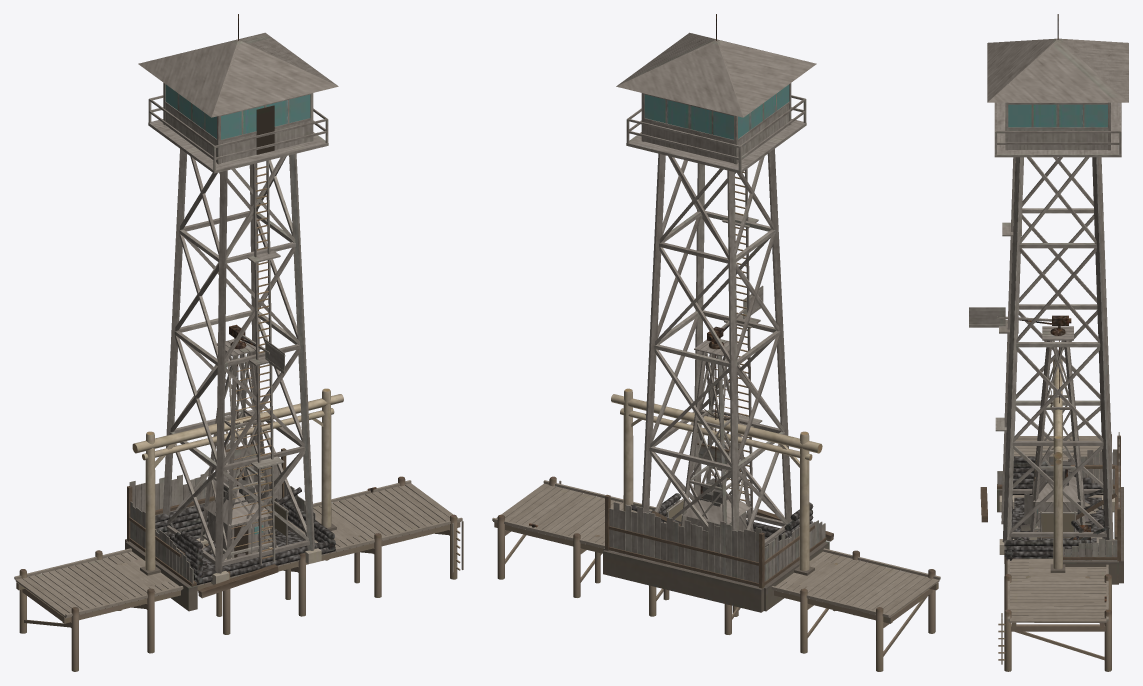
File: landmark.glb
3 views of the same model, side by side, from view 1: azimuth 30°, elevation 25°; view 2: azimuth 150°, elevation 25°; view 3: azimuth 270°, elevation 25° (orthographic). The views are drawn at different scales.
Parts seen in each view (by area): view 1: lookout_tower, dock_pier, cabin_ruin, ranch_gate, windmill_tower, burnt_ruin, fishing_shack, dock_walk; view 2: lookout_tower, dock_pier, cabin_ruin, ranch_gate, windmill_tower, fishing_shack, burnt_ruin, dock_walk; view 3: lookout_tower, dock_pier, windmill_tower, cabin_ruin, burnt_ruin, ranch_gate, fishing_shack, dock_walk, chimney_ruin.
Part boxes in pixels (x1,y1,x2,y2): lookout_tower: [138, 14, 338, 584]; dock_pier: [14, 476, 463, 671]; cabin_ruin: [125, 448, 315, 611]; ranch_gate: [132, 388, 343, 575]; windmill_tower: [196, 324, 285, 559]; burnt_ruin: [155, 487, 335, 584]; fishing_shack: [203, 476, 288, 558]; dock_walk: [114, 512, 359, 616]; lookout_tower: [616, 14, 816, 545]; dock_pier: [492, 476, 940, 671]; cabin_ruin: [603, 494, 833, 612]; ranch_gate: [611, 388, 822, 575]; windmill_tower: [681, 285, 763, 531]; fishing_shack: [666, 482, 751, 531]; burnt_ruin: [631, 493, 813, 546]; dock_walk: [595, 522, 837, 616]; lookout_tower: [987, 14, 1128, 554]; dock_pier: [998, 434, 1111, 671]; windmill_tower: [969, 307, 1087, 539]; cabin_ruin: [980, 432, 1123, 584]; burnt_ruin: [1004, 456, 1109, 560]; ranch_gate: [1047, 357, 1065, 572]; fishing_shack: [1024, 469, 1082, 539]; dock_walk: [1026, 559, 1090, 579]; chimney_ruin: [1018, 462, 1091, 539].
Bounding box in the file's own units: 18 × 25.67 × 6.55.
1 material, 1 textured.
